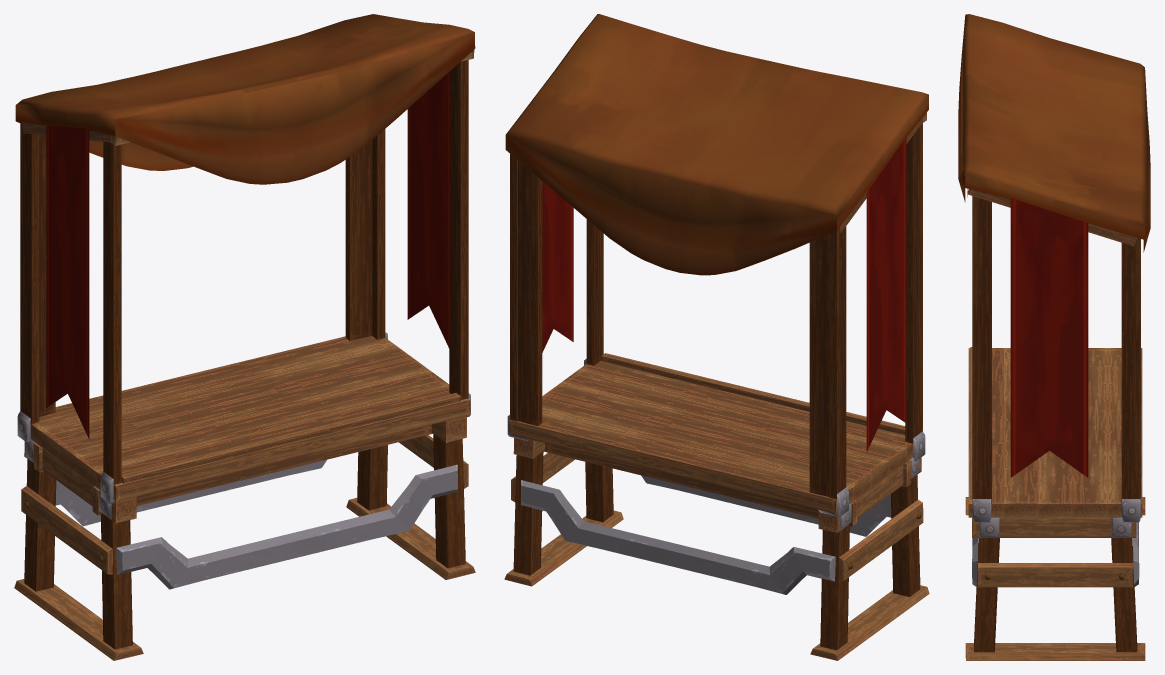
Rendered from Stall_Empty.glb.
The picture shows the model from 3 angles, left to right: view 1: azimuth 30°, elevation 25°; view 2: azimuth 150°, elevation 25°; view 3: azimuth 270°, elevation 25°; orthographic projection. The views are drawn at different scales.
Visible parts, largest first — view 1: Stall_Empty; view 2: Stall_Empty; view 3: Stall_Empty.
Boxes of the visible parts, left/top/right/bottom form: Stall_Empty: left=14, top=14, right=475, bottom=660; Stall_Empty: left=504, top=14, right=929, bottom=660; Stall_Empty: left=958, top=14, right=1150, bottom=660.
Size of the model in its own units: 1.84 by 2.63 by 0.9323.
Materials: 3 (3 with a texture image).
